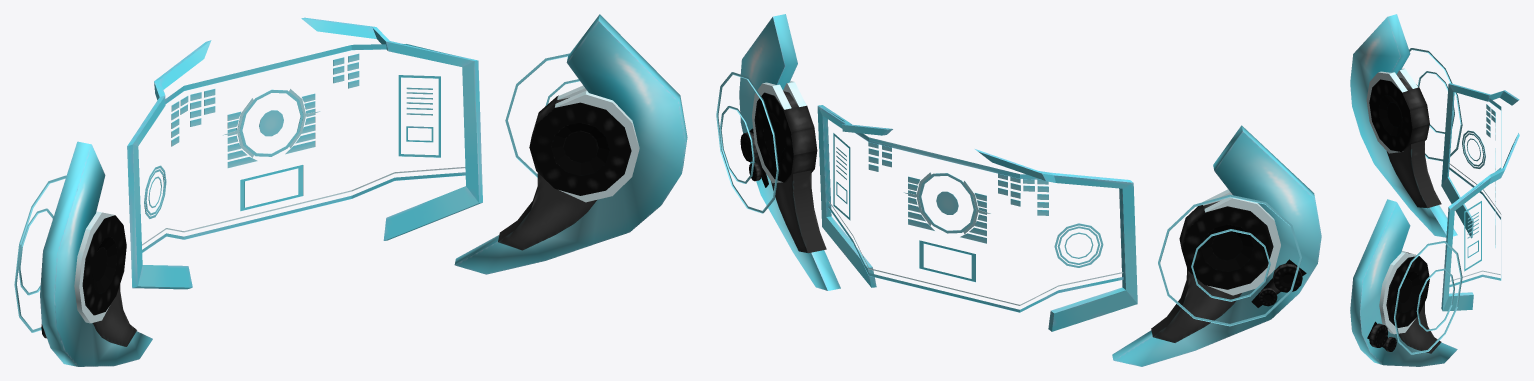
The model's file is 16-Sci-Fi-Visor-Blue-11636070237.glb.
The picture shows the model from 3 angles, left to right: view 1: azimuth 30°, elevation 25°; view 2: azimuth 150°, elevation 25°; view 3: azimuth 270°, elevation 25°; orthographic projection. The views are drawn at different scales.
Visible parts, largest first — view 1: 16-Sci-Fi-Visor-Blue-11636070237; view 2: 16-Sci-Fi-Visor-Blue-11636070237; view 3: 16-Sci-Fi-Visor-Blue-11636070237.
Part boxes in pixels (box(x1,y1,x2,y2)): 16-Sci-Fi-Visor-Blue-11636070237: box(14, 14, 687, 366); 16-Sci-Fi-Visor-Blue-11636070237: box(716, 14, 1321, 366); 16-Sci-Fi-Visor-Blue-11636070237: box(1350, 14, 1519, 366).
Size of the model in its own units: 1.61 by 0.6083 by 0.4917.
1 material, 1 textured.
